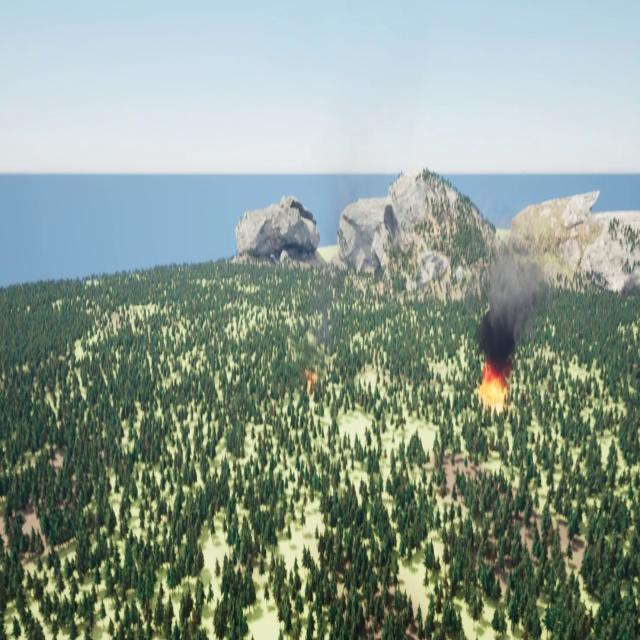fire: (476, 363, 508, 413), (304, 367, 316, 386)
smoke: (475, 251, 544, 358)
